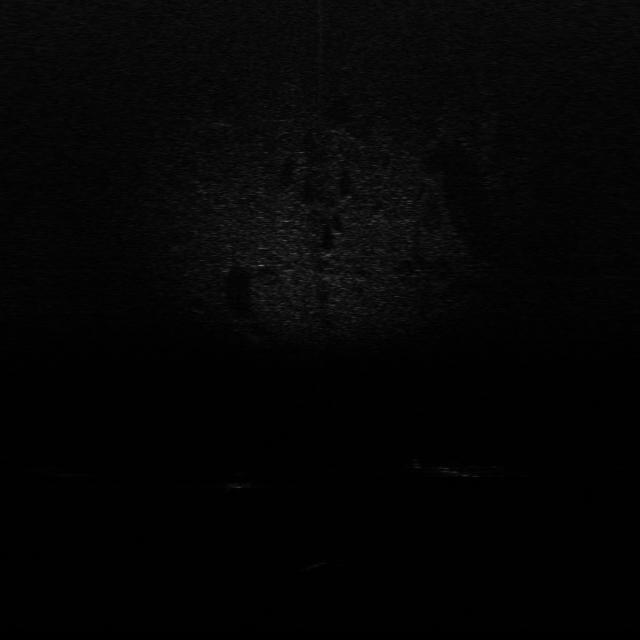ball: (223, 469, 263, 501)
circle cage: (294, 555, 347, 590)
human body: (403, 455, 528, 484)
